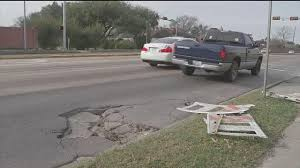pothole: (41, 95, 162, 156)
